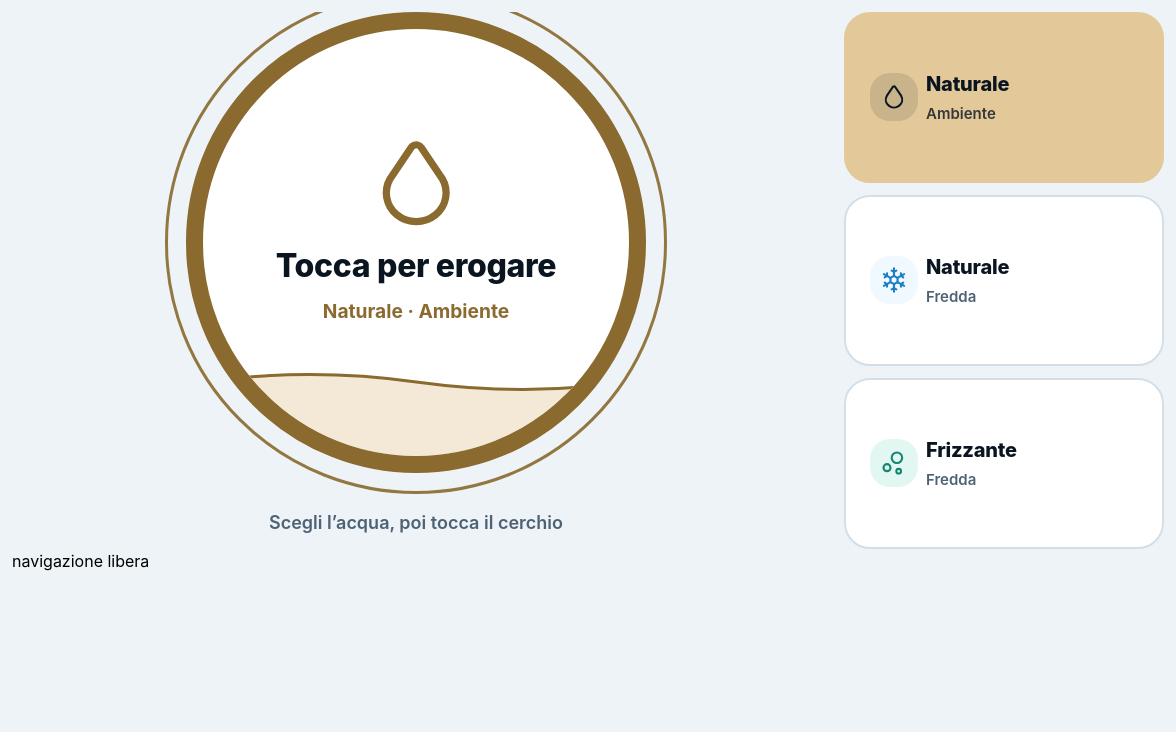
Test case: Dispenser › locks the navigation until the valve closes
Click the button with aria-label "erogazione".
click(416, 242)  # box [186,12,646,473]
Wait 1100 ms
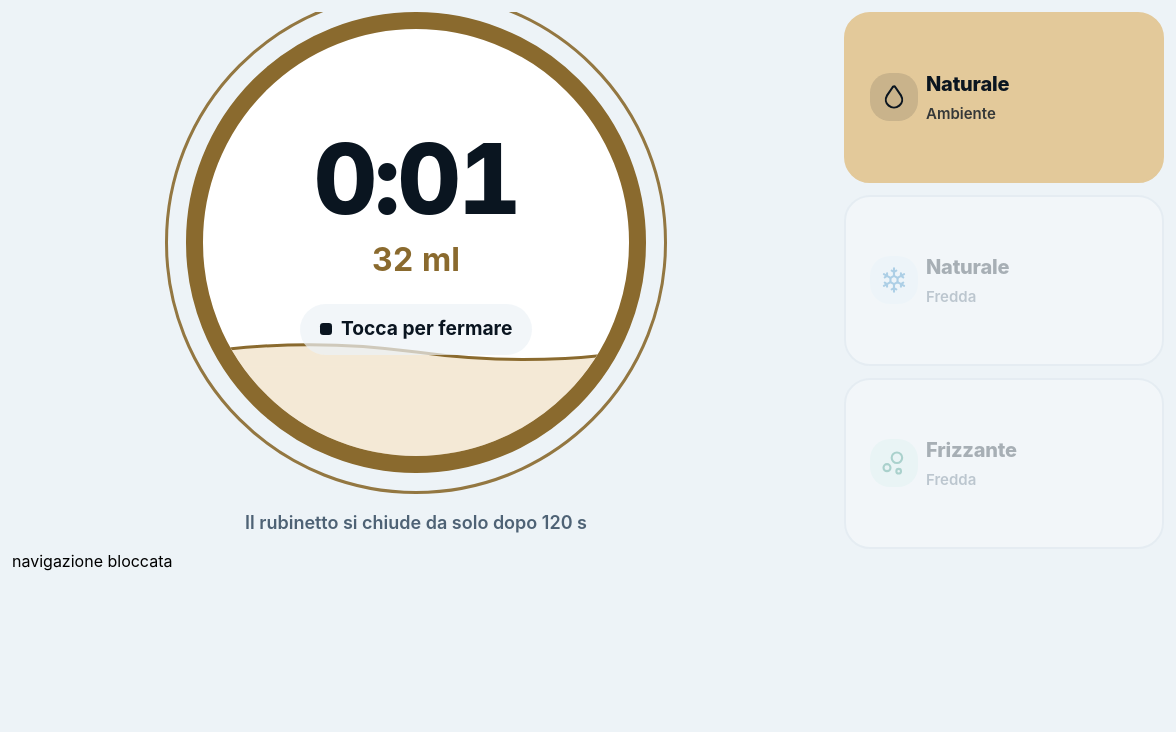
Result: the text "navigazione bloccata" is shown at [12,551,172,571]
Click the button with aria-label "erogazione".
click(416, 242)  # box [186,12,646,473]
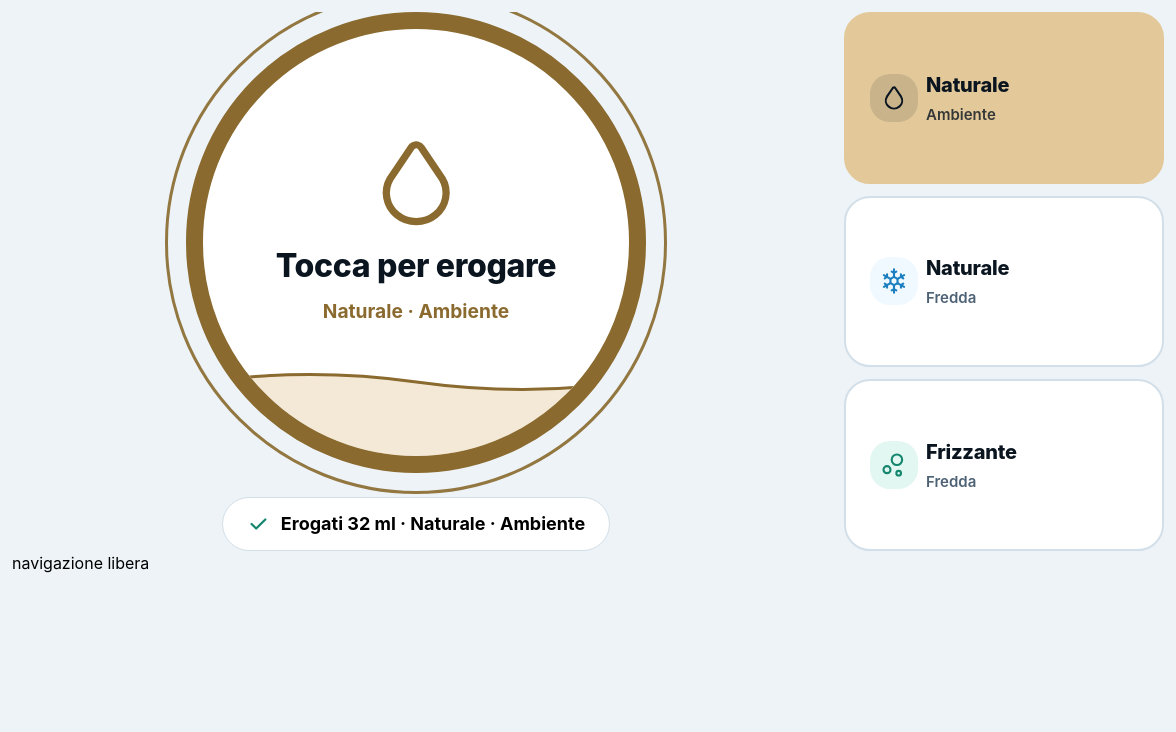
Result: the text "navigazione libera" is shown at [12,553,149,573]
